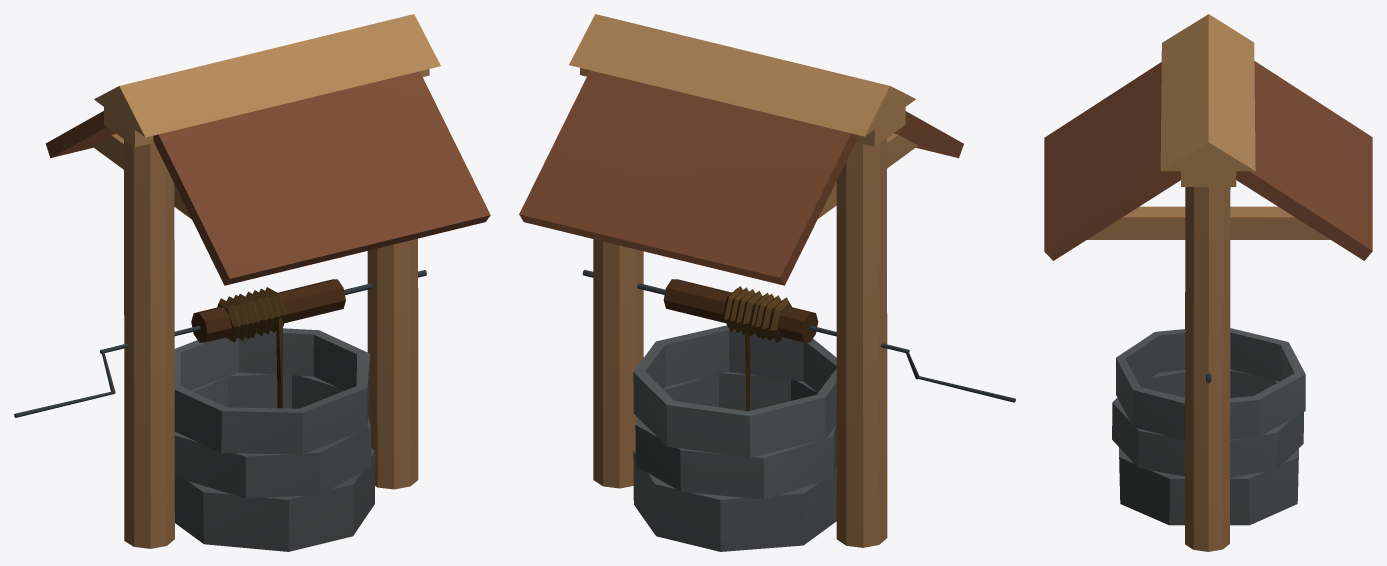
The model's file is Kolodec.fbx.
3 views of the same model, side by side, from view 1: azimuth 30°, elevation 25°; view 2: azimuth 150°, elevation 25°; view 3: azimuth 270°, elevation 25° (orthographic). The views are drawn at different scales.
Visible parts, largest first — view 1: Stones; view 2: Stones; view 3: Stones.
Boxes of the visible parts, bbox=[...] form: Stones: bbox=[14, 14, 490, 551]; Stones: bbox=[519, 14, 1015, 551]; Stones: bbox=[1044, 14, 1372, 551].
Size of the model in its own units: 669 by 698 by 507.
